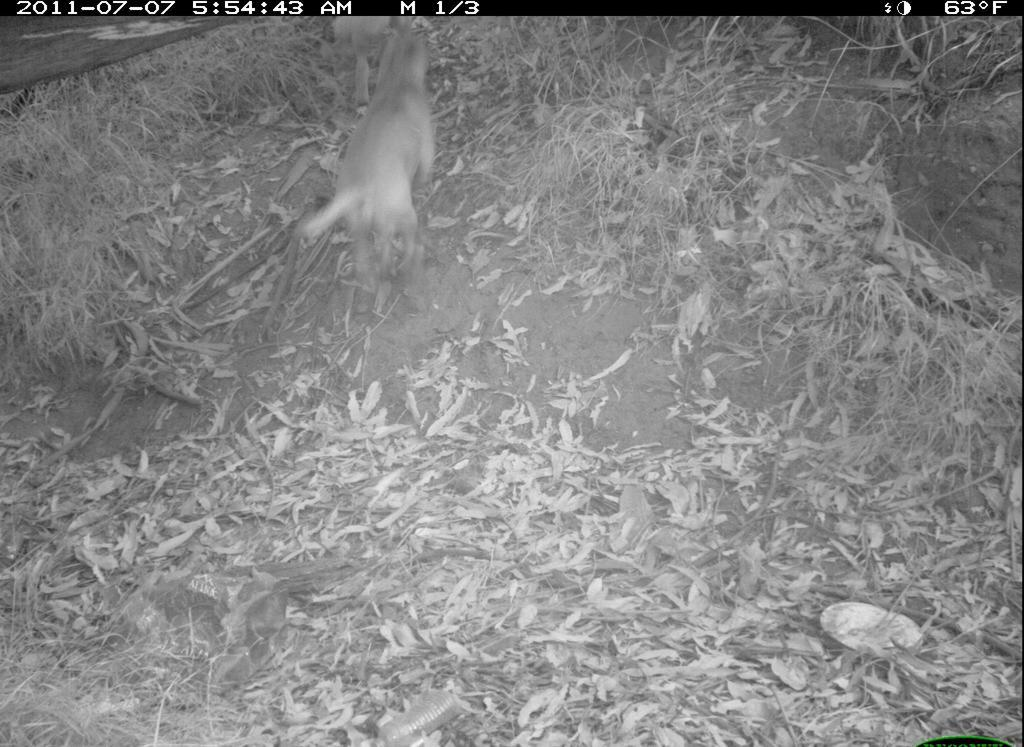dog: (299, 25, 449, 312)
